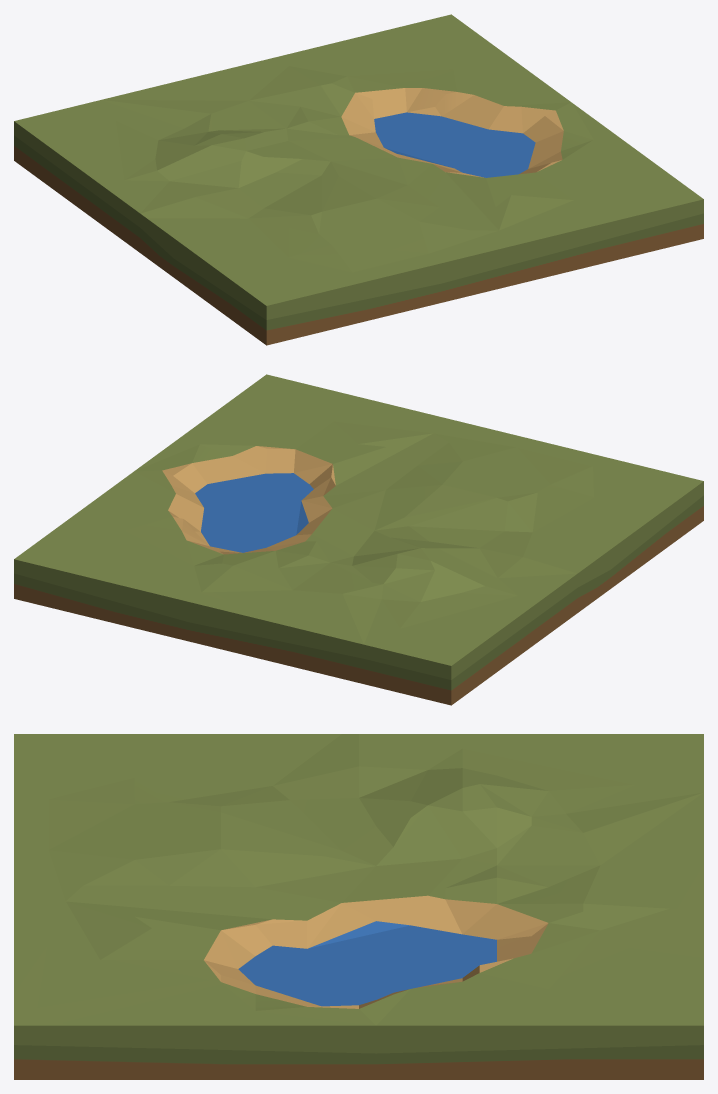
The model's file is SM_Tile_Cube_Pond_01.glb.
The picture shows the model from 3 angles, top to bottom: view 1: azimuth 30°, elevation 25°; view 2: azimuth 150°, elevation 25°; view 3: azimuth 270°, elevation 25°; orthographic projection. The views are drawn at different scales.
Parts seen in each view (by area): view 1: SM_Tile_Cube_Pond_01; view 2: SM_Tile_Cube_Pond_01; view 3: SM_Tile_Cube_Pond_01.
Boxes of the visible parts, <box> form: SM_Tile_Cube_Pond_01: <box>14,14,703,345</box>; SM_Tile_Cube_Pond_01: <box>14,374,703,705</box>; SM_Tile_Cube_Pond_01: <box>14,734,703,1079</box>.
Size of the model in its own units: 5 by 0.5847 by 5.
Materials: 1 (1 with a texture image).
